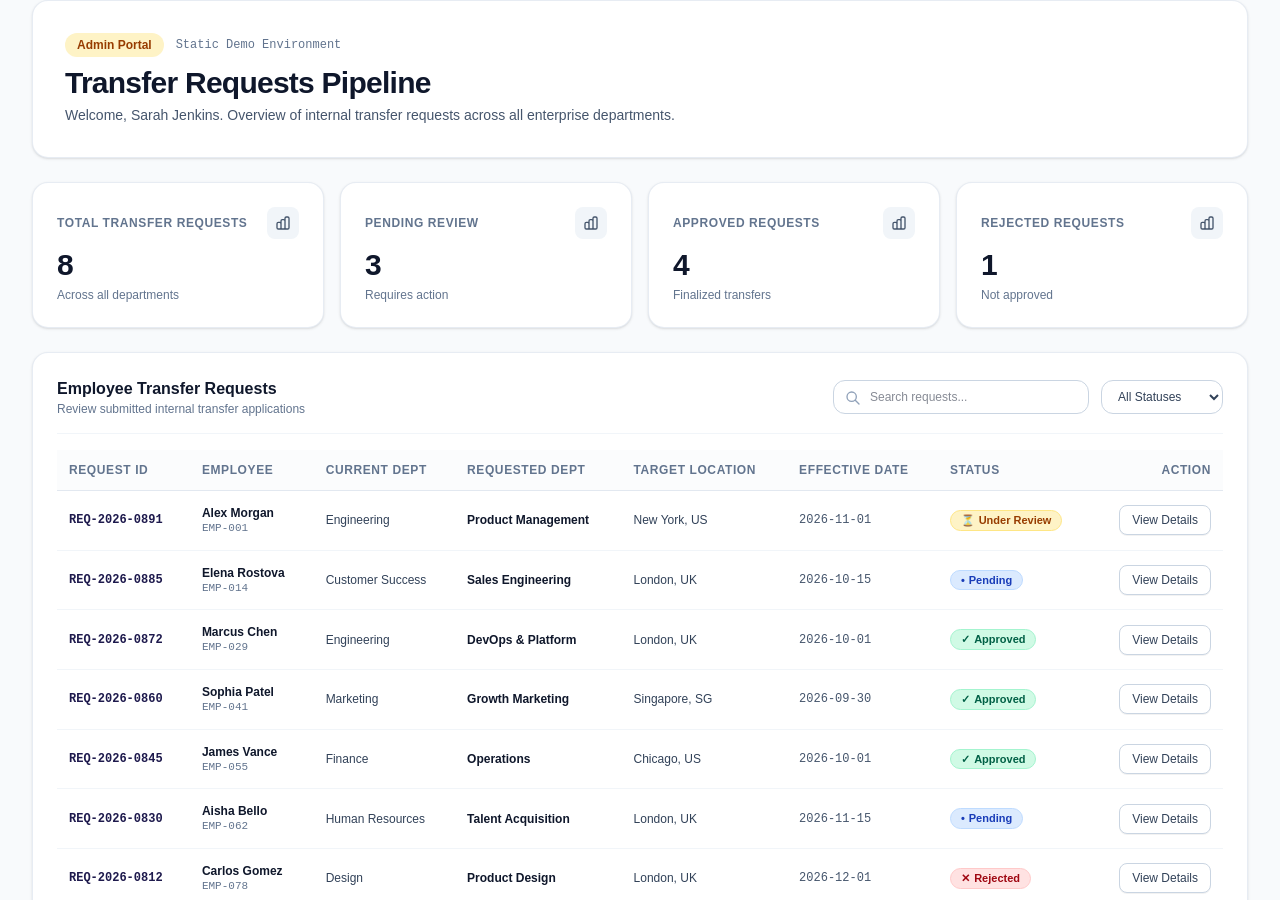
P2-T05: AdminDashboard component › closes detail modal when close button is clicked
Click the button "View Details" in the row of "REQ-2026-0891": [1165, 520] box [1119,505,1211,535]
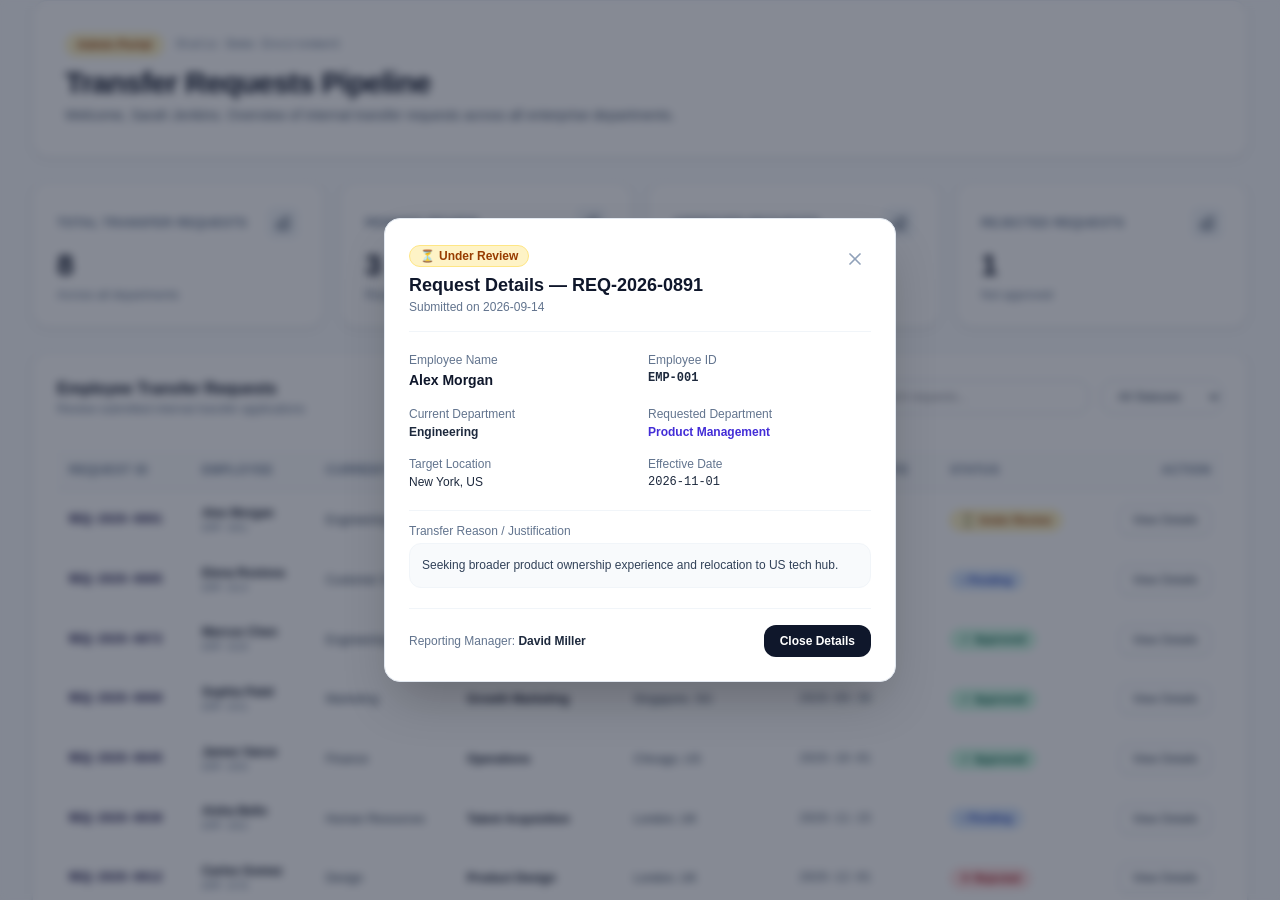
expect the dialog is shown: met
Click the button named "close modal": [855, 259] box [839,243,871,275]
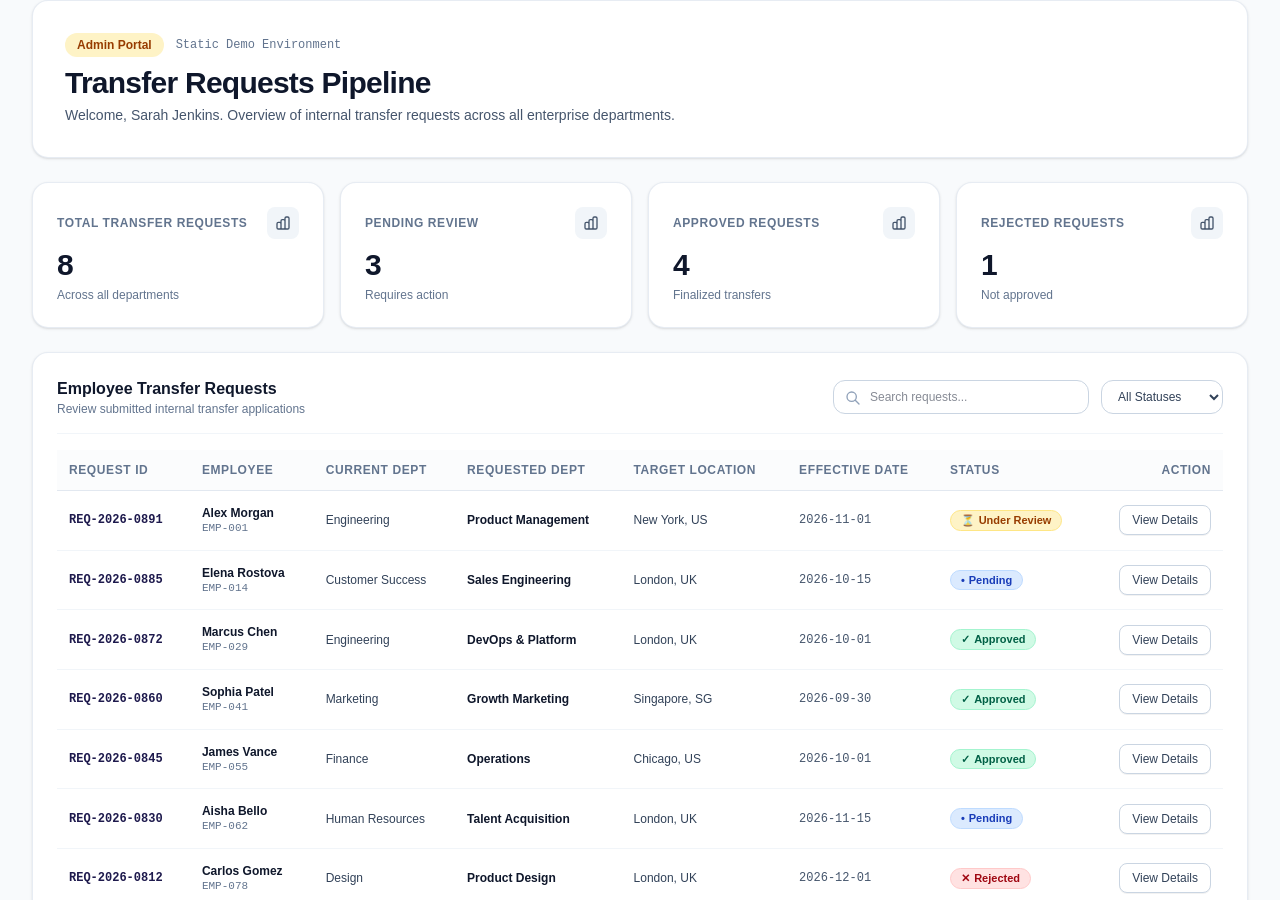
expect the dialog is gone: met
